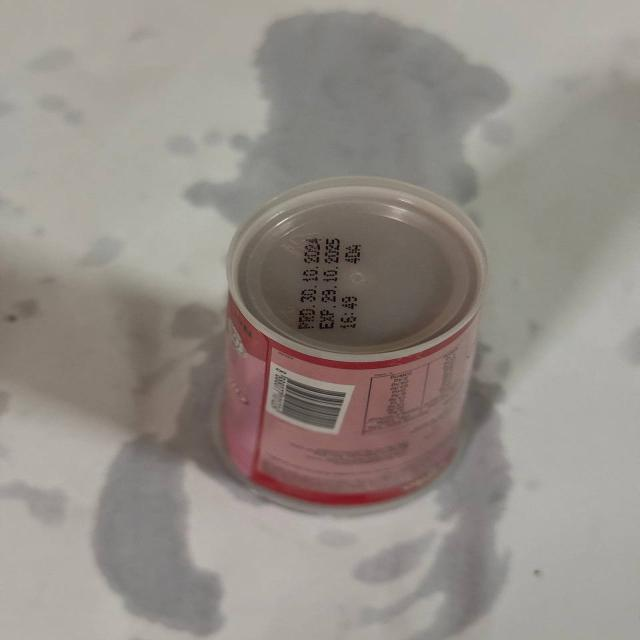yanyan-cracker: (189, 162, 498, 528)
